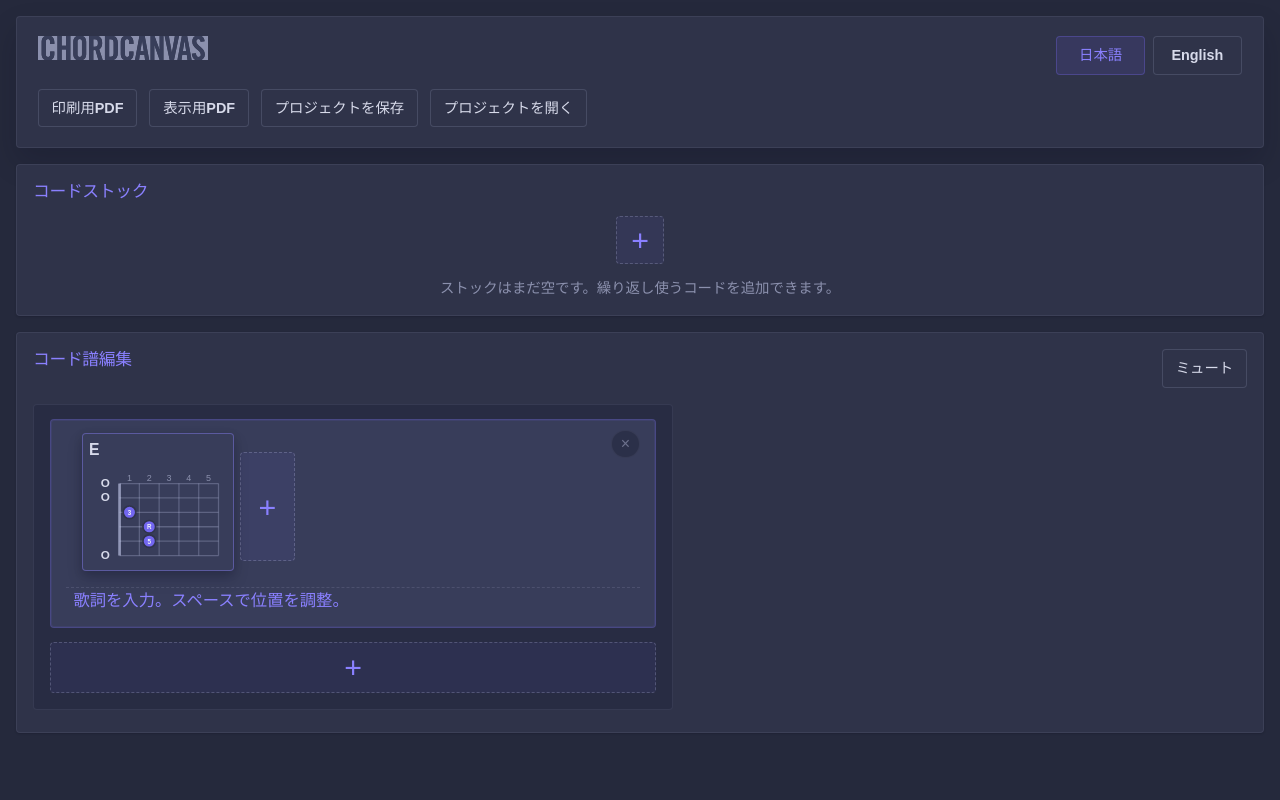
Scenario: App › allows direct manual fret selection from the modal builder
Click the 1st button "+" at (640, 240), box [616,216,664,264]
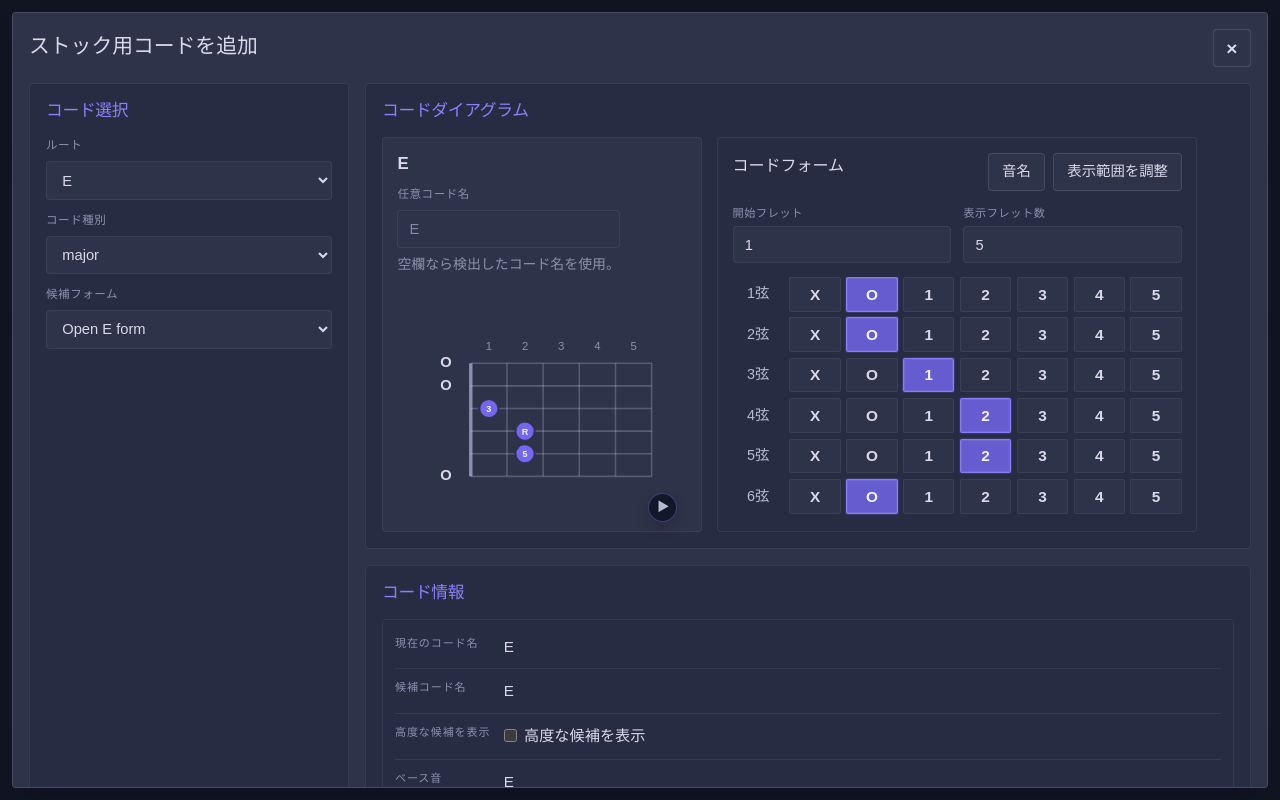
Replace the text in the number field labelled "開始フレット" with "5" at (842, 245), box [733,226,951,263]
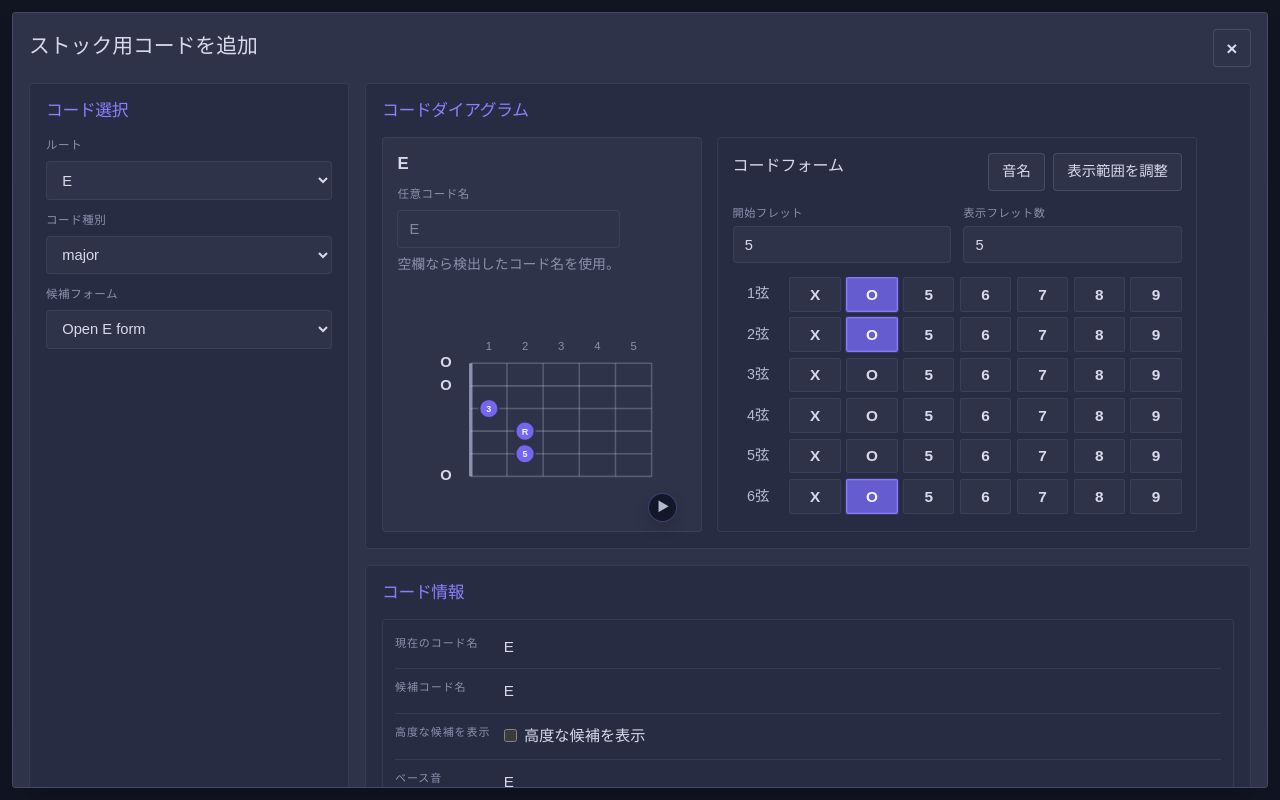
Click the button named "6弦 5フレット" at (929, 496), box [903,479,954,514]
(page scrolled)
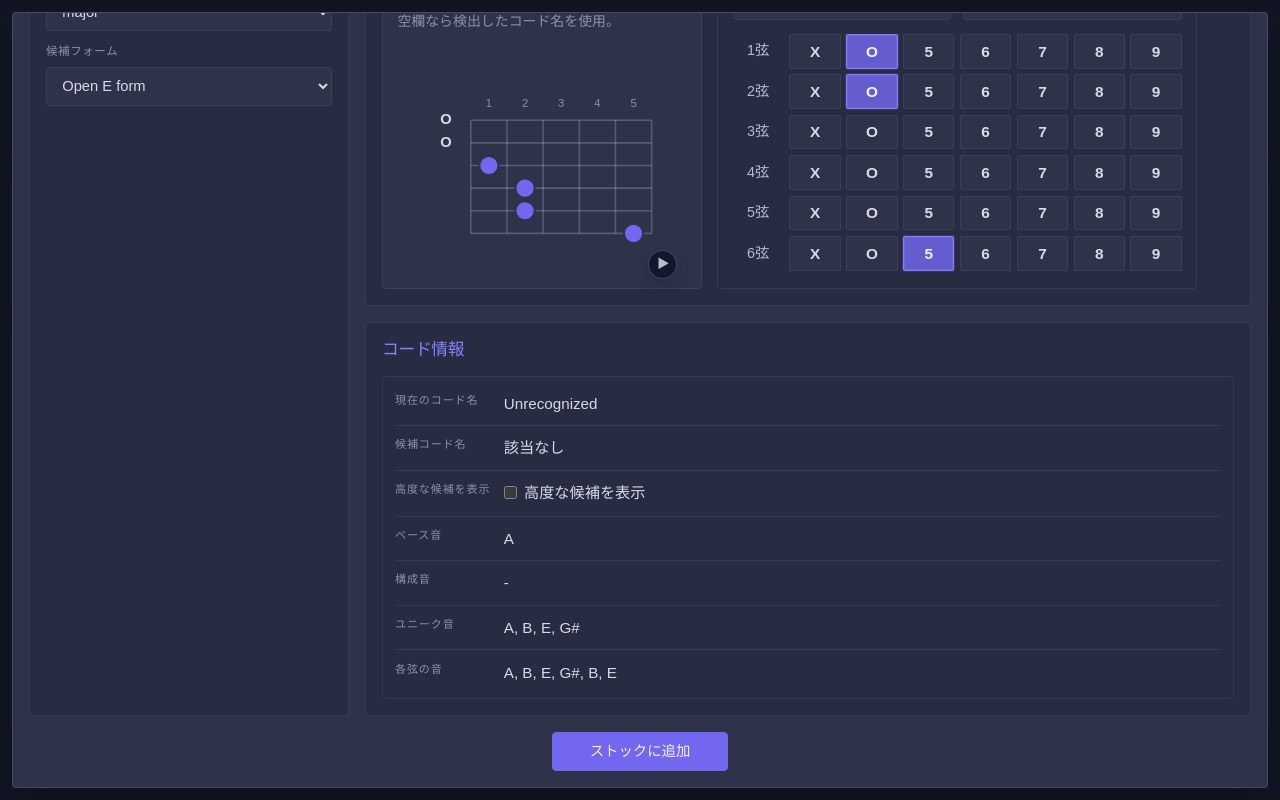
Expected: the text "ベース音" shows "A", [504,530,514,547]
